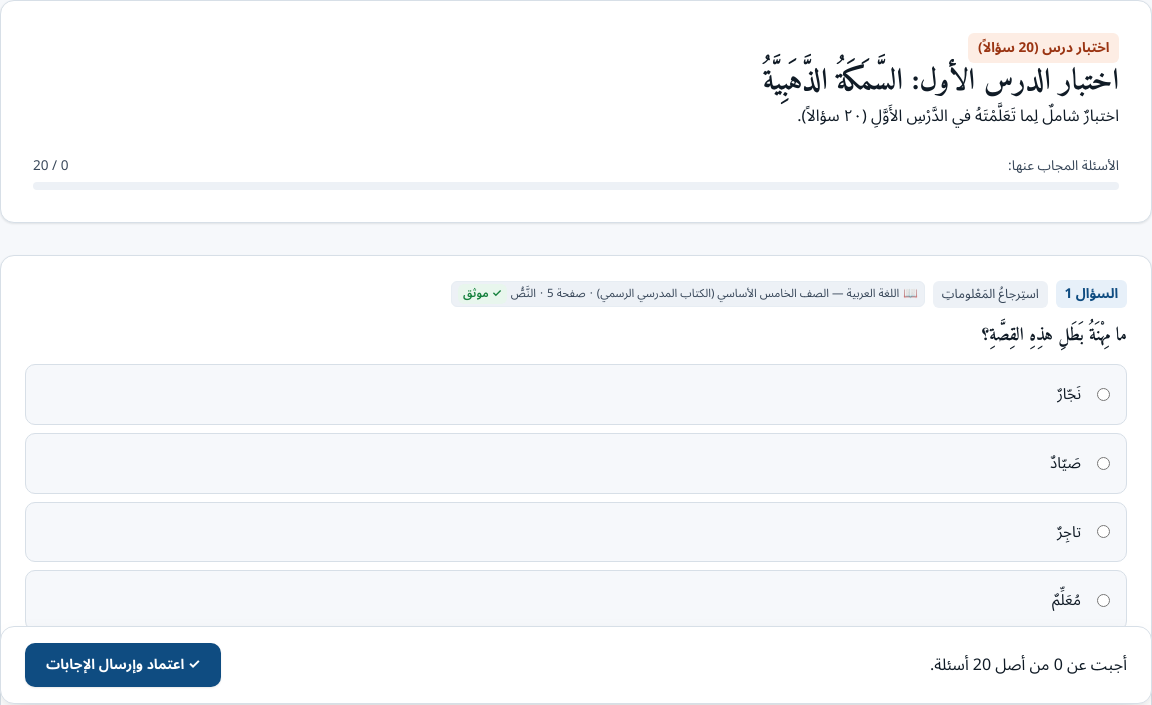
Test: PR1 — assessment draft save failure › warns honestly and keeps answers in memory when the draft write fails
The width and height of the screenshot is (1152, 705).
Click the radio button labelled "نَجّارٌ": (1104, 395) x1=1097 y1=388 x2=1110 y2=401
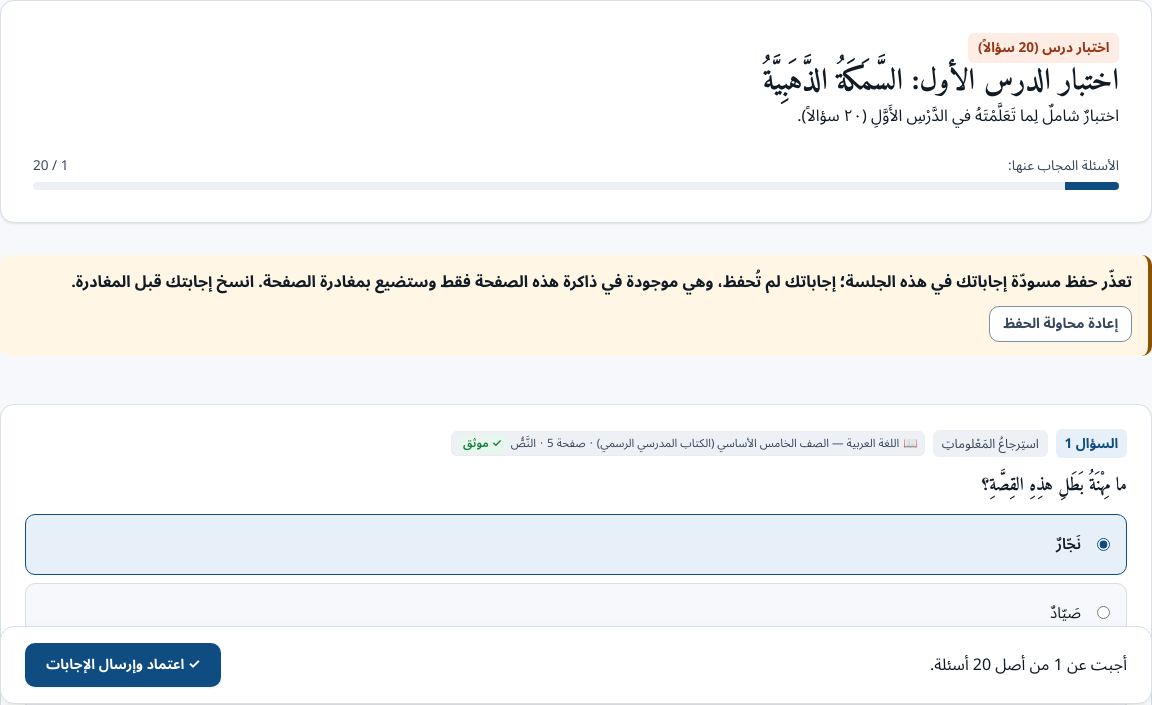
Result: the radio button labelled "نَجّارٌ" is checked at x1=1097 y1=538 x2=1110 y2=551
Result: the message shows "تعذّر حفظ مسودّة إجاباتك في هذه الجلسة" at x1=71 y1=265 x2=1132 y2=299
Result: the message shows "إجاباتك لم تُحفظ" at x1=71 y1=265 x2=1132 y2=299
